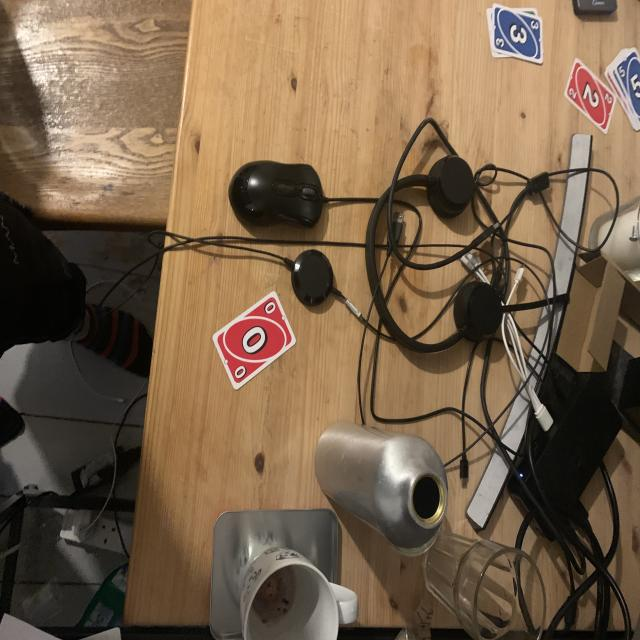lred-0: (262, 300, 278, 318)
